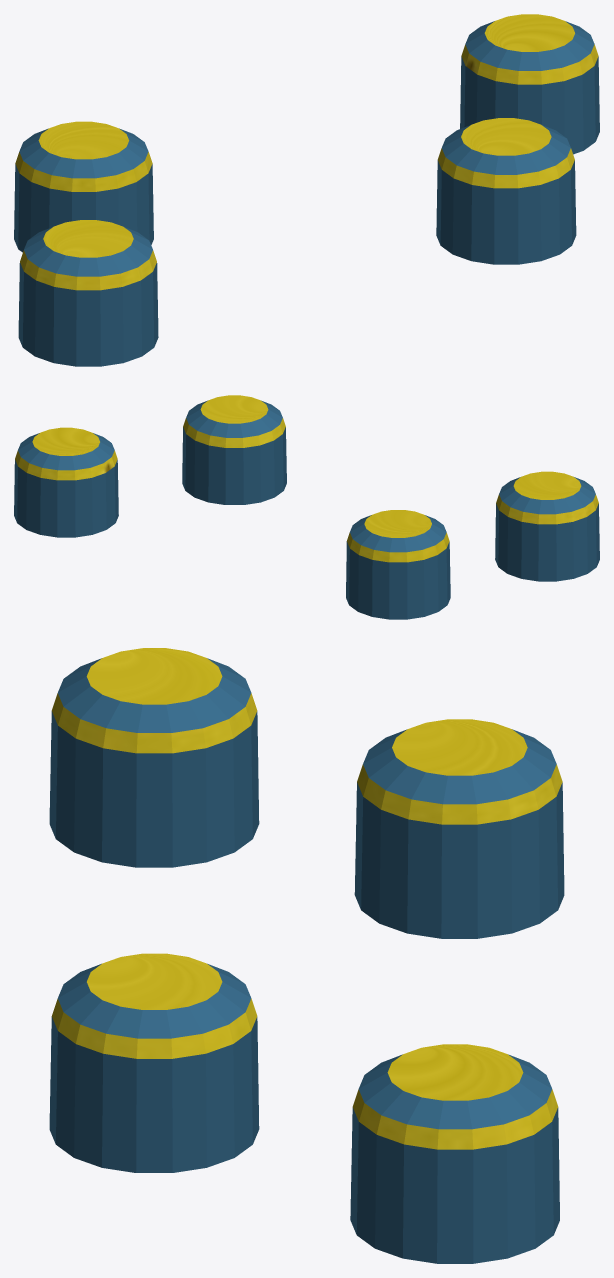
File: toposA.obj
3 views of the same model, one above another, from view 1: azimuth 30°, elevation 25°; view 2: azimuth 150°, elevation 25°; view 3: azimuth 270°, elevation 25° (orthographic). The views are drawn at different scales.
Visible parts, largest first — view 1: topos.001; view 2: topos.001; view 3: topos.001.
Boxes of the visible parts, x1,y1,x2,y2 form: topos.001: [14, 14, 599, 366]; topos.001: [14, 395, 599, 619]; topos.001: [49, 648, 564, 1263].
Bounding box in the file's own units: 4.01 × 0.5715 × 1.81.
Materials: 1 (1 with a texture image).
